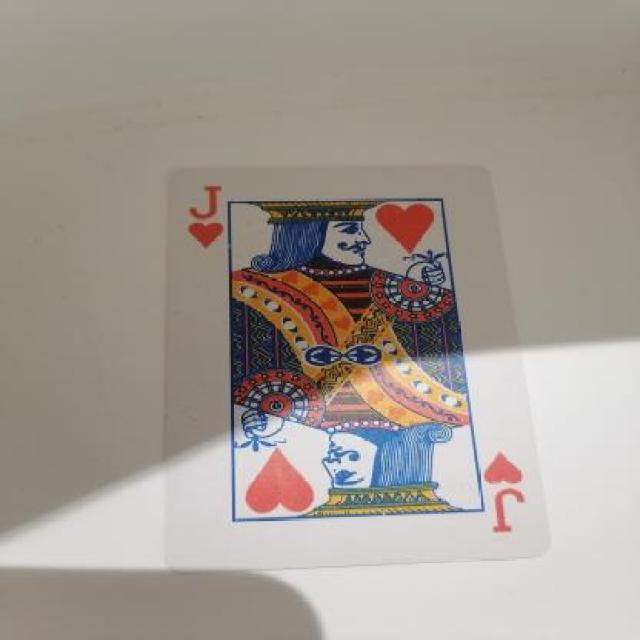JH: (457, 427, 529, 541), (180, 176, 240, 258)
